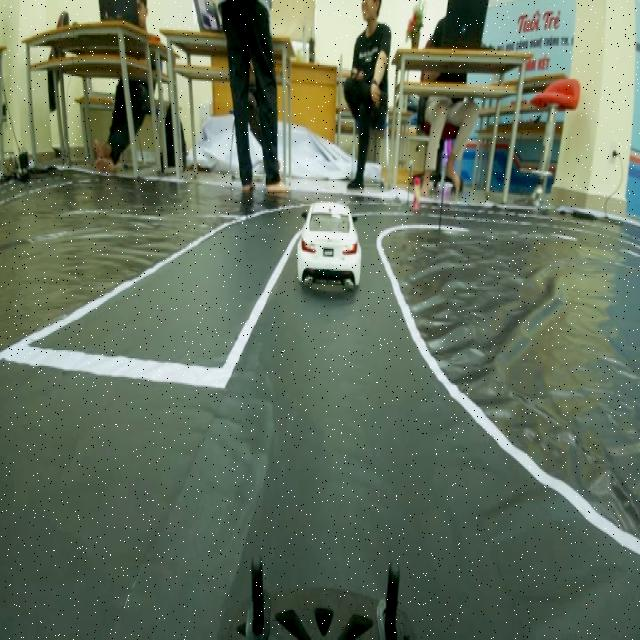car: (295, 185, 363, 295)
